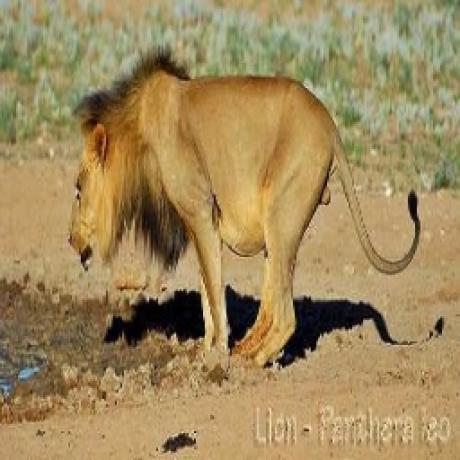Lion: (65, 48, 425, 362)
